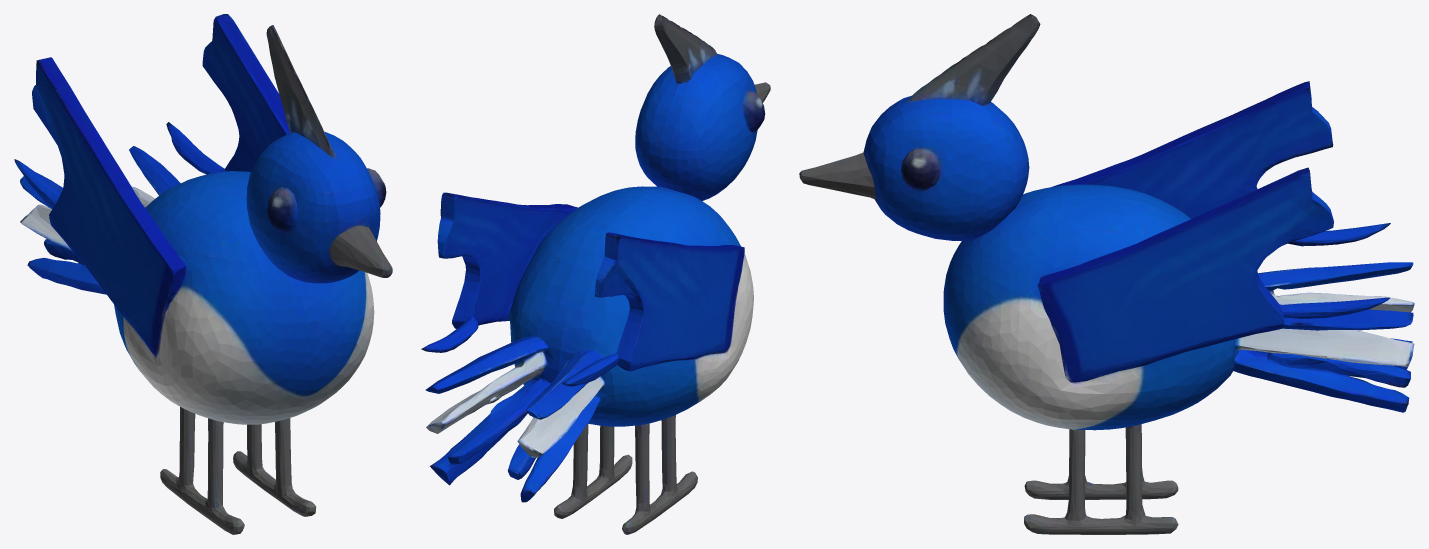
Rendered from 020-wavewing.glb.
3 views of the same model, side by side, from view 1: azimuth 30°, elevation 25°; view 2: azimuth 150°, elevation 25°; view 3: azimuth 270°, elevation 25° (orthographic). The views are drawn at different scales.
Parts seen in each view (by area): view 1: geometry_0; view 2: geometry_0; view 3: geometry_0.
Boxes of the visible parts, box(x1,y1,x2,y2) form: geometry_0: box(14, 14, 392, 534); geometry_0: box(421, 14, 770, 534); geometry_0: box(799, 14, 1414, 534).
Bounding box in the file's own units: 0.362 × 0.8989 × 0.9977.
Materials: 1 (1 with a texture image).
